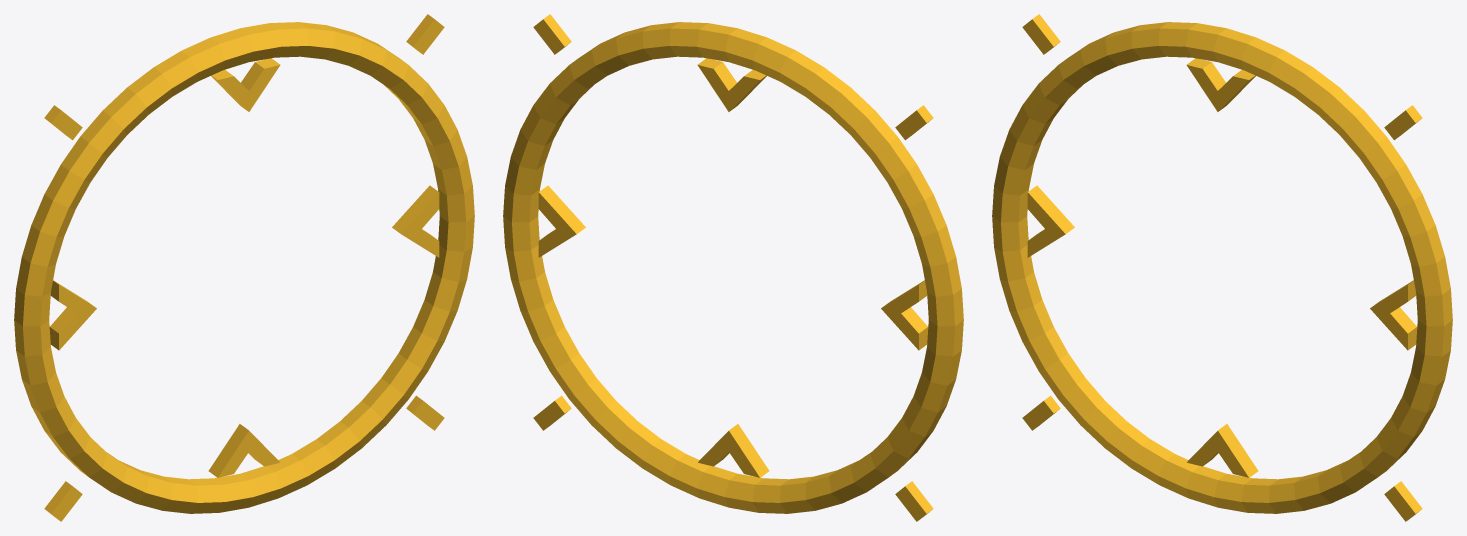
Rendered from beam_ring.glb.
3 renders of one model, left to right at view 1: azimuth 30°, elevation 25°; view 2: azimuth 150°, elevation 25°; view 3: azimuth 330°, elevation 25°, orthographic.
Visible parts, largest first — view 1: beam_ring; view 2: beam_ring; view 3: beam_ring.
Part boxes in pixels (x1,y1,x2,y2): beam_ring: (14,14,474,521); beam_ring: (503,14,963,521); beam_ring: (992,14,1452,521).
Size of the model in its own units: 0.892 by 0.892 by 0.06.
